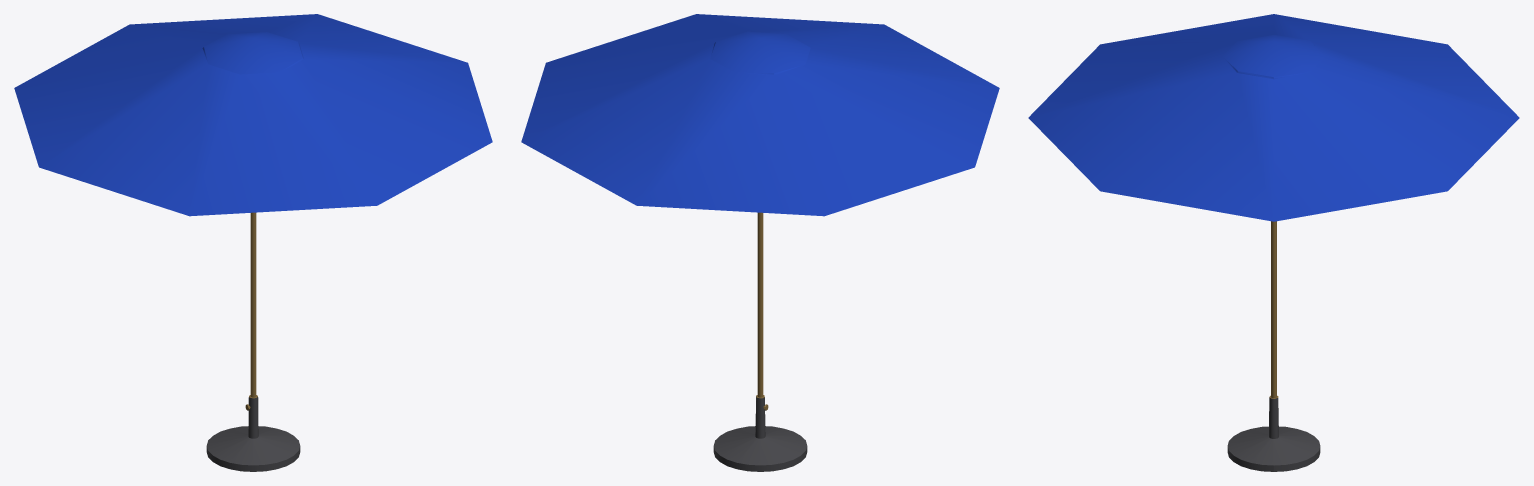
Rendered from umbrella_blue.glb.
The picture shows the model from 3 angles, left to right: view 1: azimuth 30°, elevation 25°; view 2: azimuth 150°, elevation 25°; view 3: azimuth 270°, elevation 25°; orthographic projection.
Visible parts, largest first — view 1: prop; view 2: prop; view 3: prop.
Part boxes in pixels (<box>): prop: <box>14,14,492,471</box>; prop: <box>521,14,999,471</box>; prop: <box>1028,14,1519,471</box>.
Bounding box in the file's own units: 2.53 × 2.33 × 2.53.
Materials: 1 (1 with a texture image).
